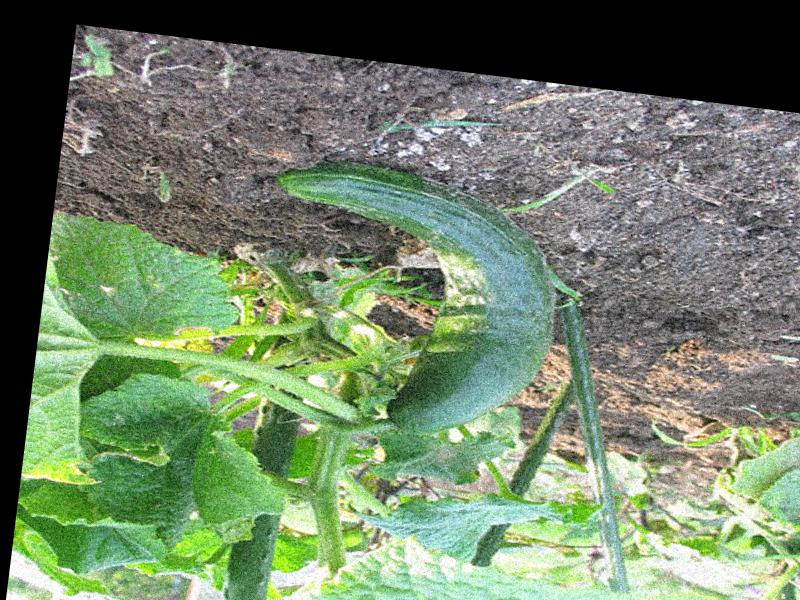Cucumber: (246, 152, 572, 449)
